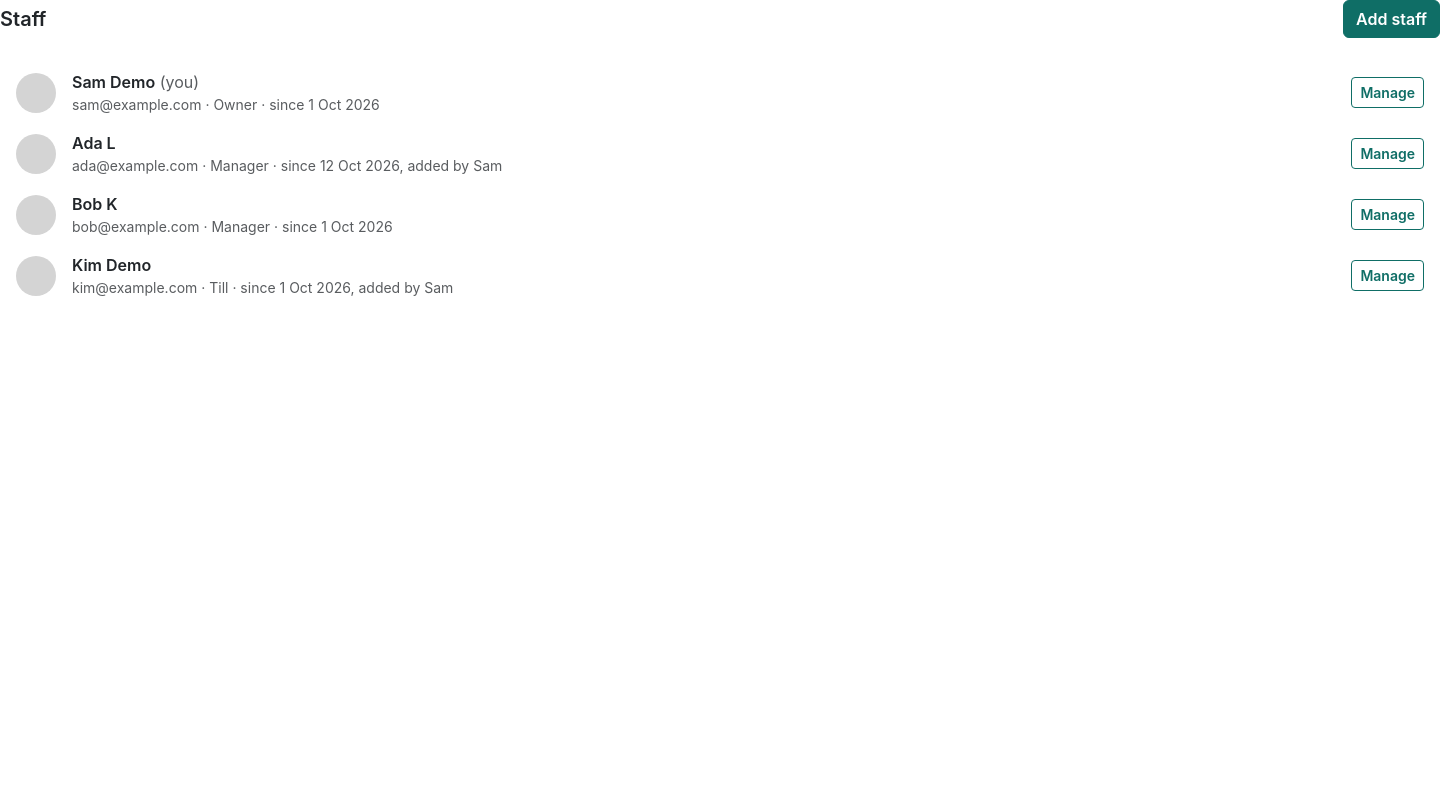
it: the owner › hands the shop over to a manager
The image size is (1440, 810).
Click the button with aria-label "Manage Ada L". click: (1388, 154)
box: [1351,138,1424,169]
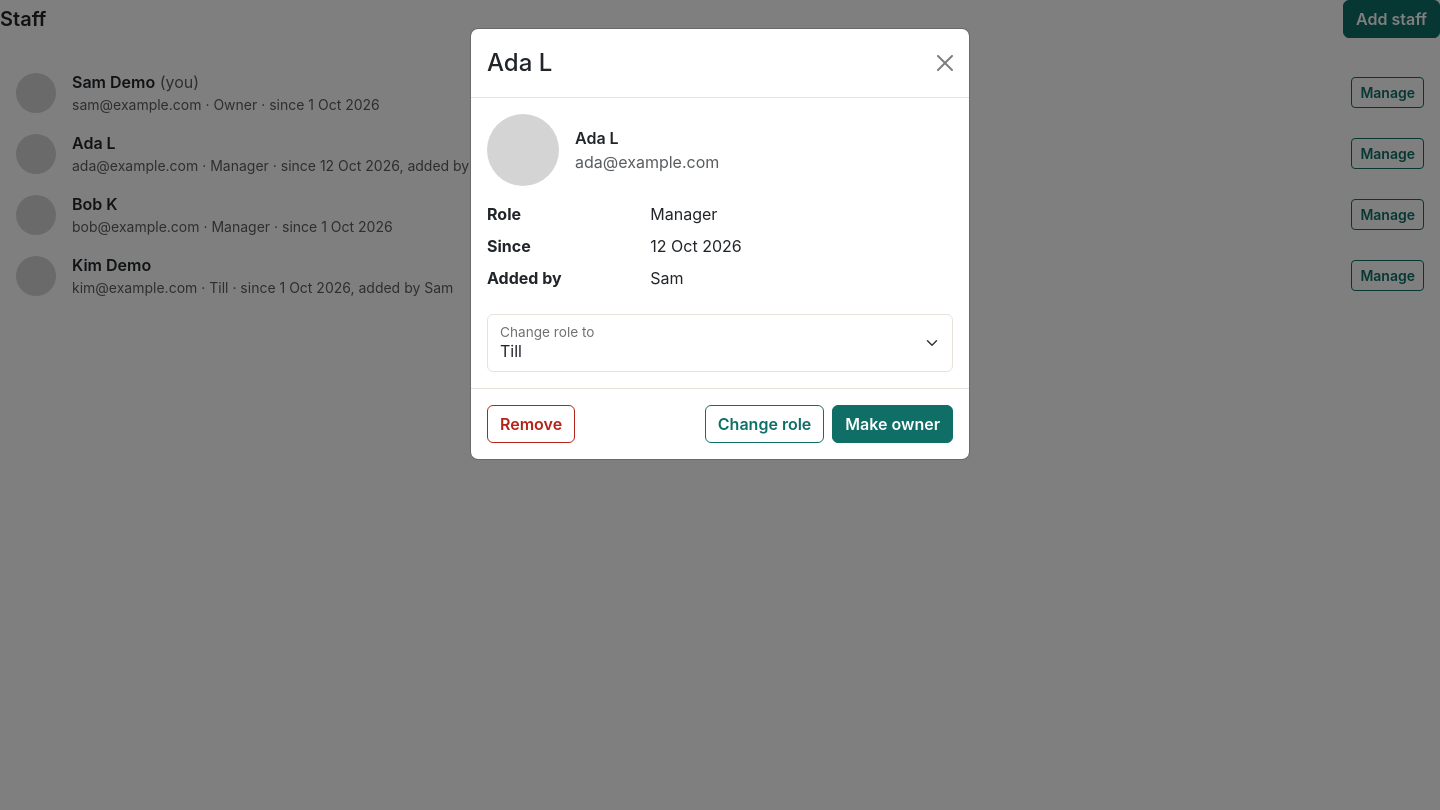
Click the button "Make owner". click: (893, 424)
box: [832,405,953,443]
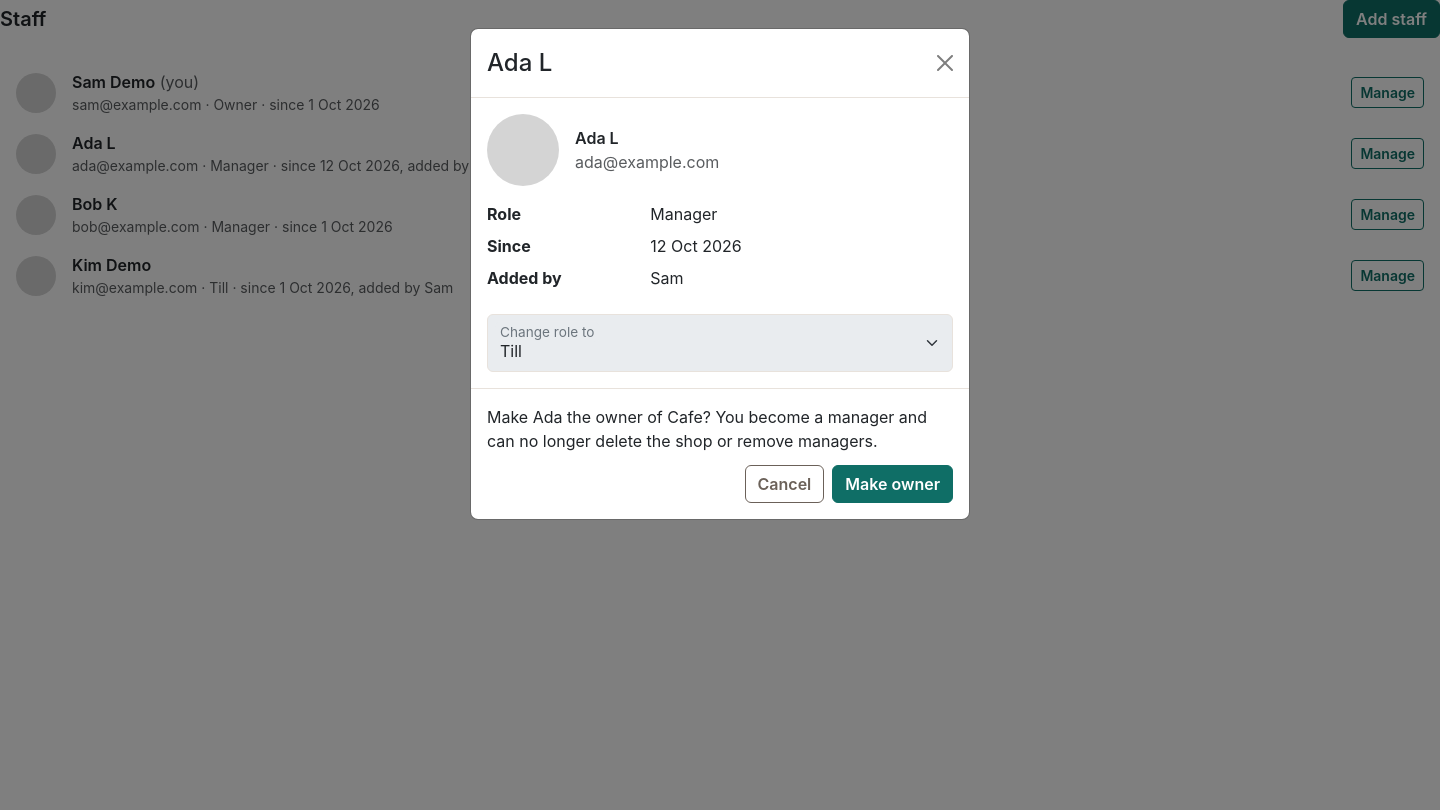
Expected: the text "Make Ada the owner of Cafe? You become a manager and can no longer delete the shop or remove managers." is shown, [487,407,927,451]
Click the button "Make owner". click: (893, 484)
box: [832,465,953,503]
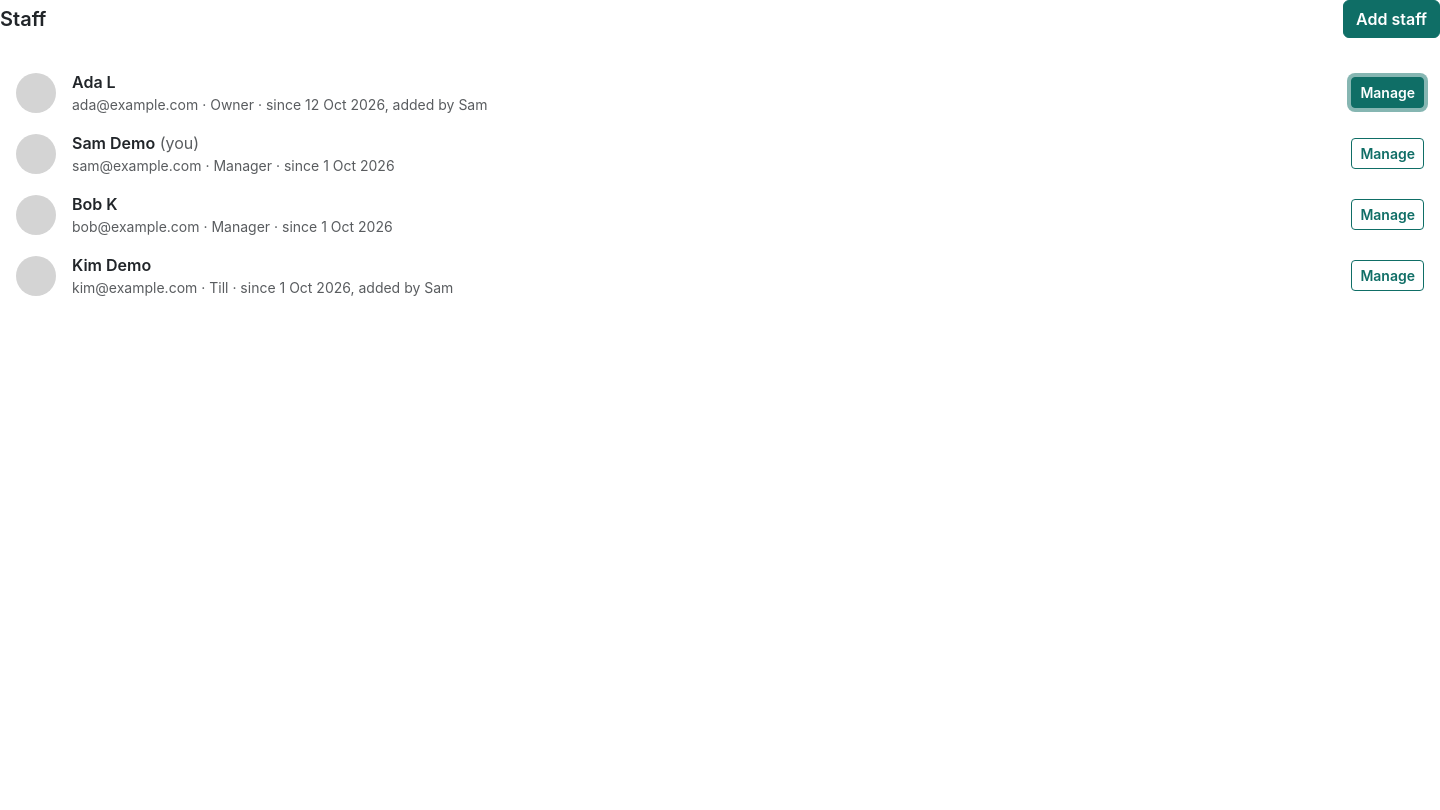
Expected: the list item that starts with "Ada L" shows "Owner", [210,96,254,113]
Expected: the list item that starts with "Sam Demo" shows "Sam Demo (you)", [0,123,1439,184]
Expected: the list item that starts with "Sam Demo" shows "Manager", [213,157,272,174]
